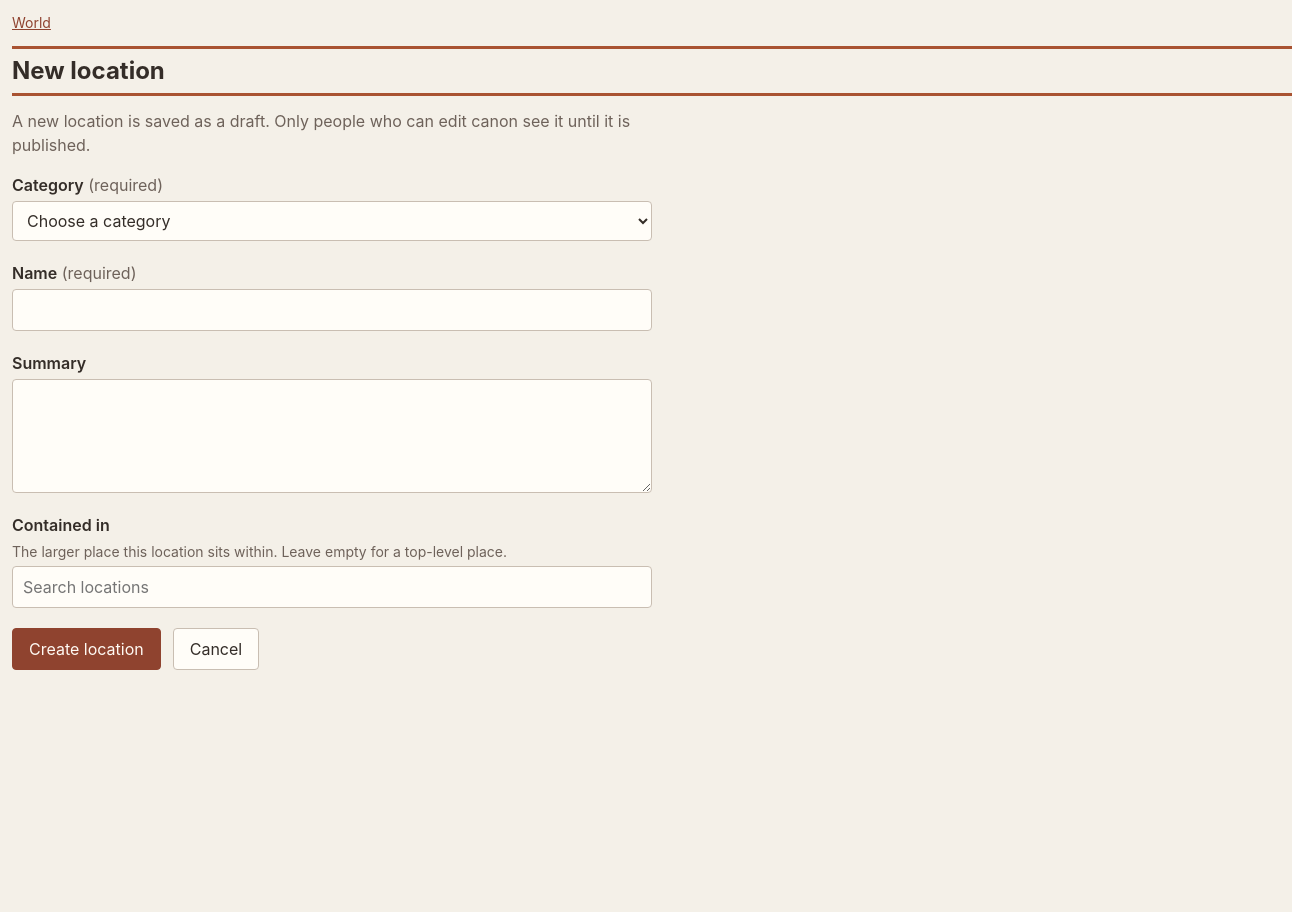
CreateLocationPage › offers the server's categories and shows only the chosen category's typed fields
Expected: the field labelled "Population" is not shown
Select "Settlement" in the dropdown labelled "Category (required)": (332, 221) [12, 201, 652, 241]
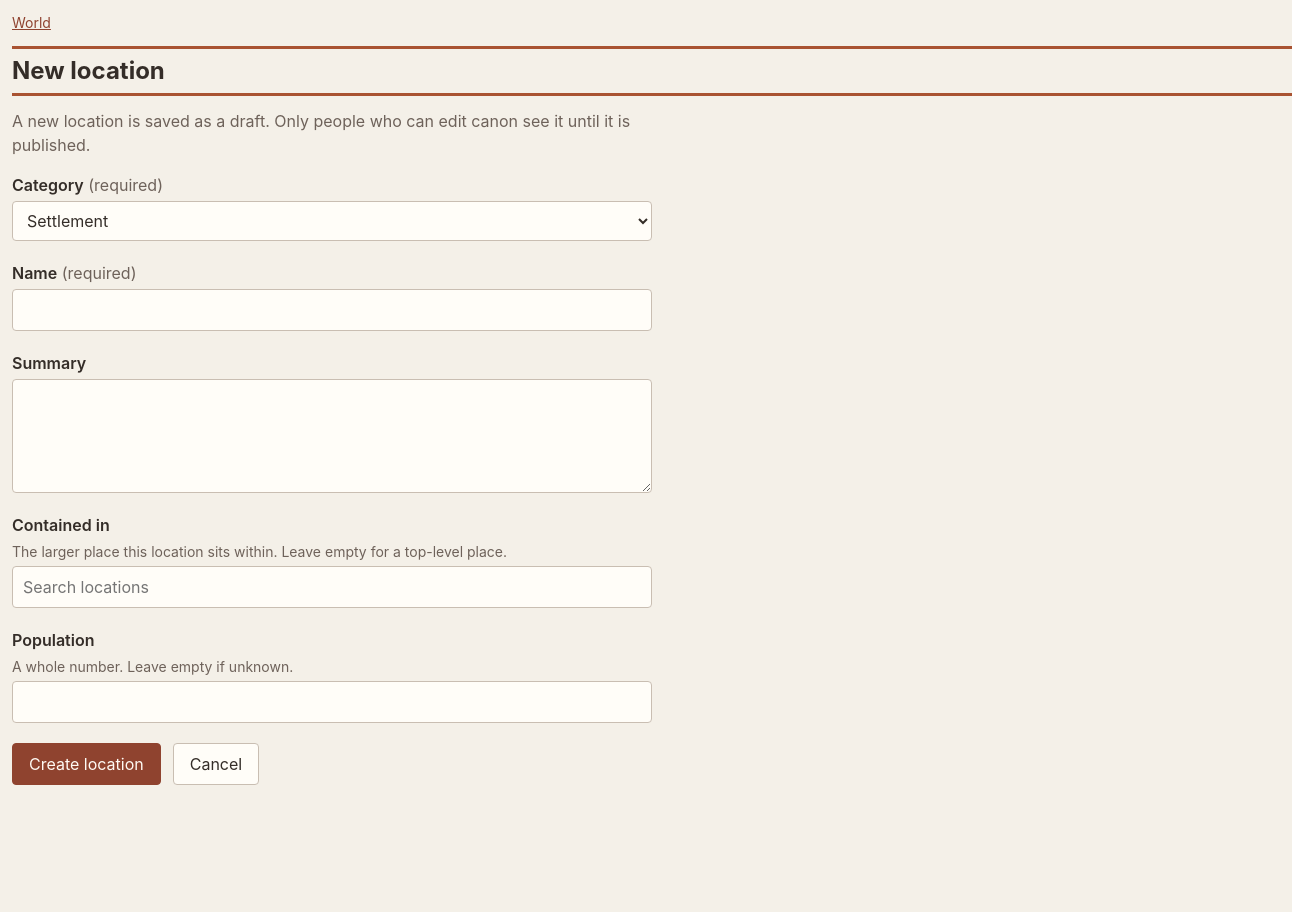
Expected: the field labelled "Use" is not shown
Now the field labelled "Population" is shown, box [12, 681, 652, 723]
Select "Building" in the dropdown labelled "Category (required)": (332, 221) [12, 201, 652, 241]
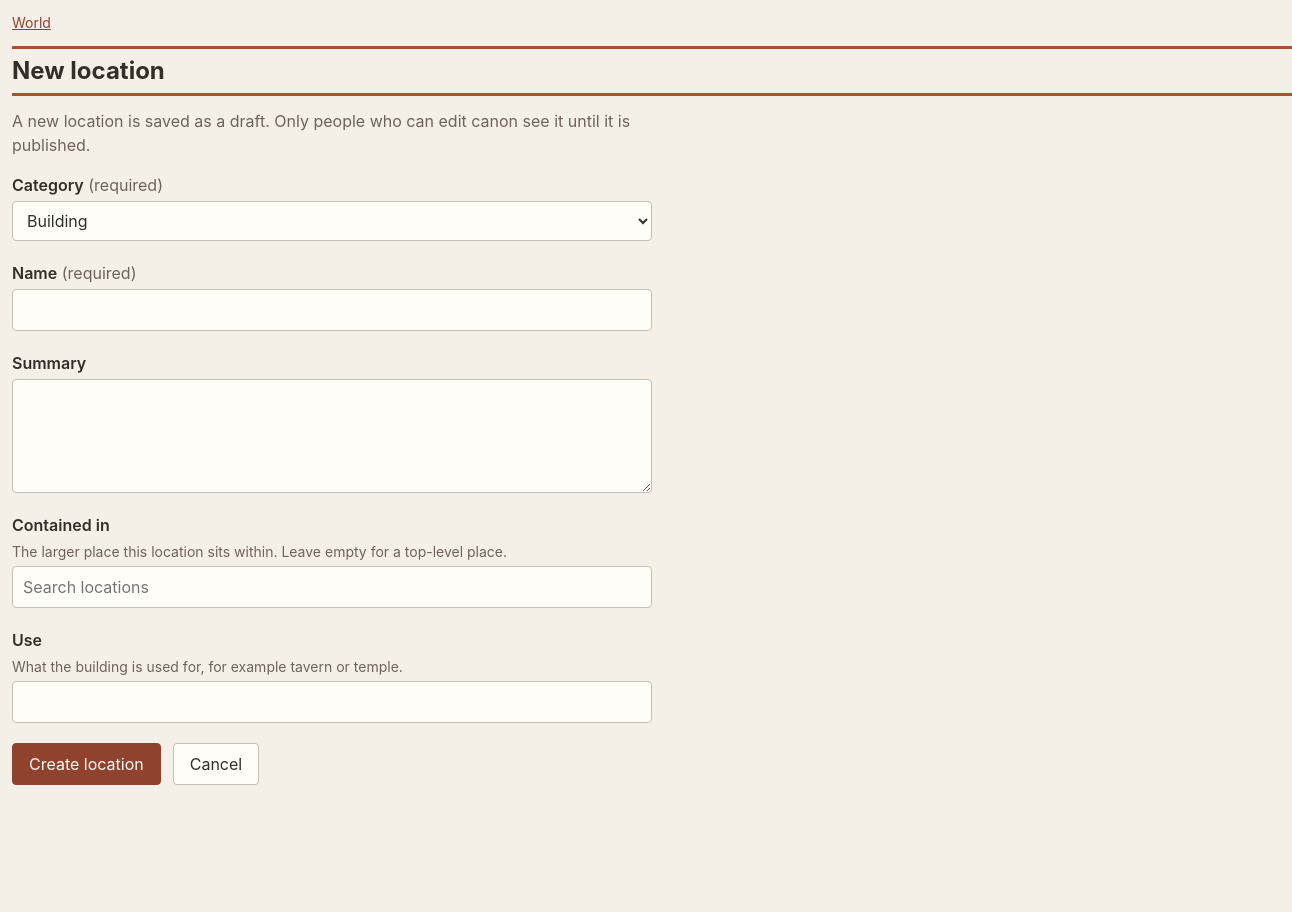
Expected: the field labelled "Use" is shown, [12, 681, 652, 723]
Now the label "Population" is gone
